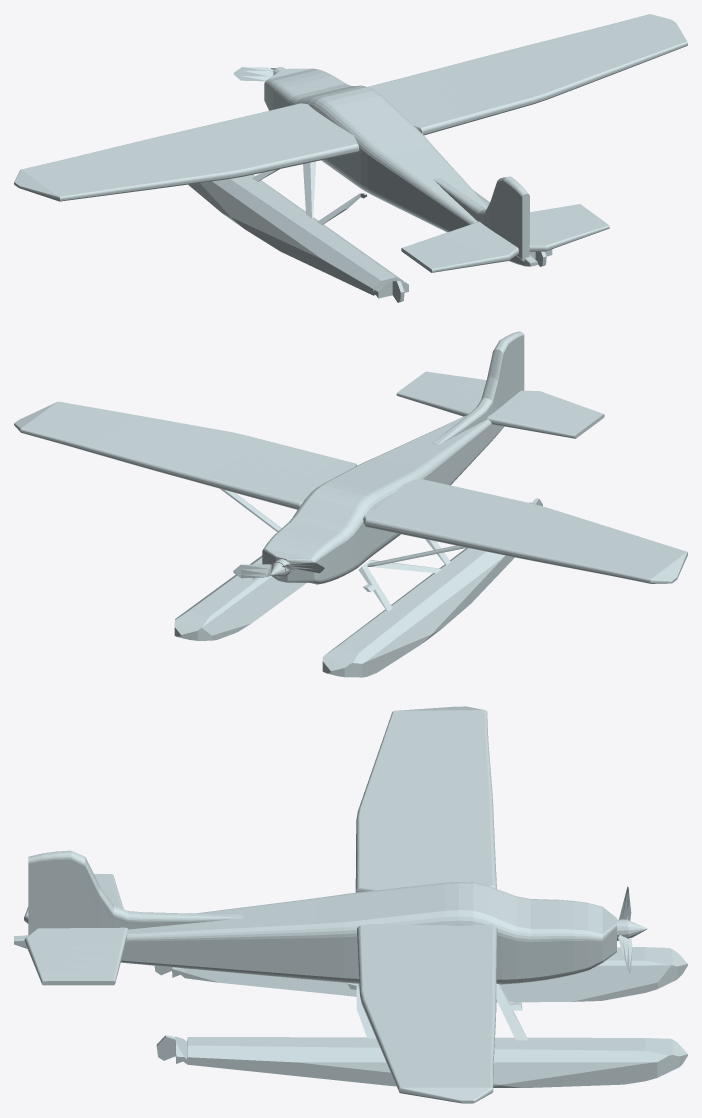
The model's file is C180-PONTOON.glb.
3 renders of one model, top to bottom at view 1: azimuth 30°, elevation 25°; view 2: azimuth 150°, elevation 25°; view 3: azimuth 270°, elevation 25°, orthographic. The views are drawn at different scales.
Visible parts, largest first — view 1: Aircraft visual hull, Rotor 1790644676237-agel7zvb1zd; view 2: Aircraft visual hull, Rotor 1790644676237-agel7zvb1zd; view 3: Aircraft visual hull, Rotor 1790644676237-agel7zvb1zd.
Boxes of the visible parts, x1=… form: Aircraft visual hull: x1=14, y1=14, x2=687, y2=302; Rotor 1790644676237-agel7zvb1zd: x1=233, y1=67, x2=285, y2=81; Aircraft visual hull: x1=14, y1=331, x2=687, y2=677; Rotor 1790644676237-agel7zvb1zd: x1=233, y1=559, x2=324, y2=578; Aircraft visual hull: x1=14, y1=706, x2=687, y2=1103; Rotor 1790644676237-agel7zvb1zd: x1=617, y1=886, x2=647, y2=973.
Size of the model in its own units: 10.89 by 2.42 by 7.88.
